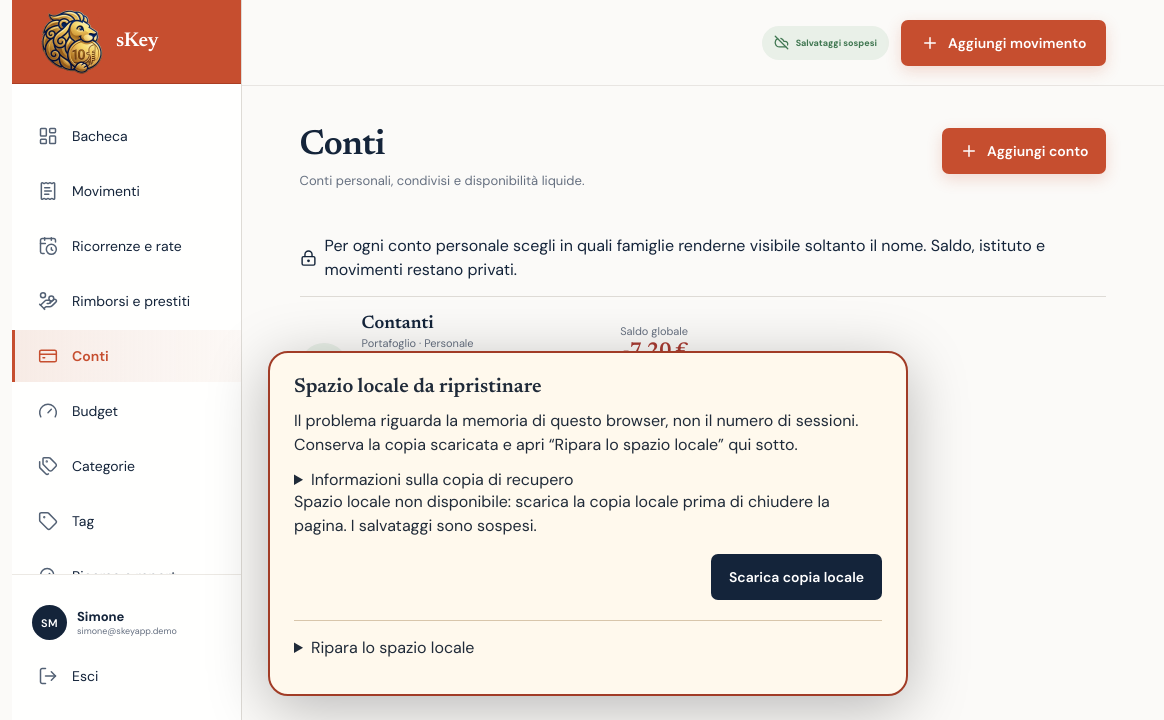
Scenario: cloud save lifecycle on mobile › does not clear any old copies if the durable archive fails
Expected: the text "Spazio locale non disponibile: scarica la copia locale prima di chiudere la pagina. I salvataggi sono sospesi." is shown, [294, 491, 830, 536]
Click the heading "Ripara lo spazio locale" at (393, 648), box [311, 637, 474, 658]
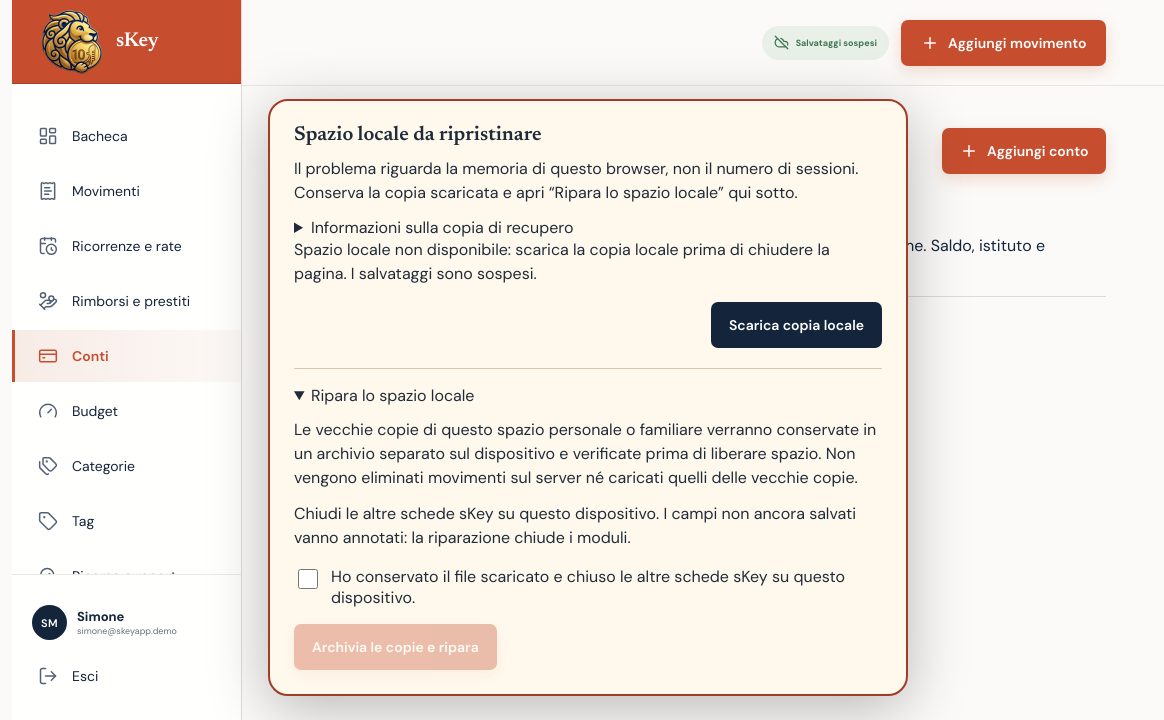
Now the button "Archivia le copie e ripara" is disabled, box [294, 624, 497, 670]
Click the checkbox labelled "Ho conservato il file scaricato" at (308, 579), box [298, 569, 318, 589]
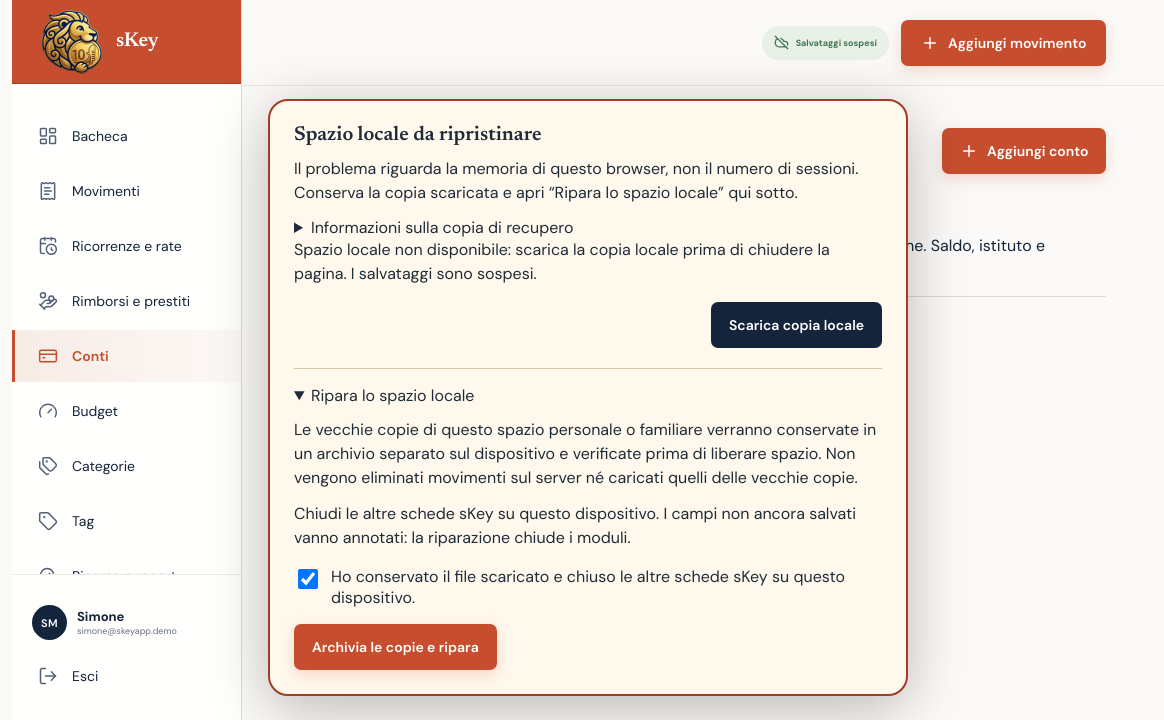
Now the button "Archivia le copie e ripara" is enabled
Click the button "Archivia le copie e ripara" at (395, 647), box [294, 624, 497, 670]
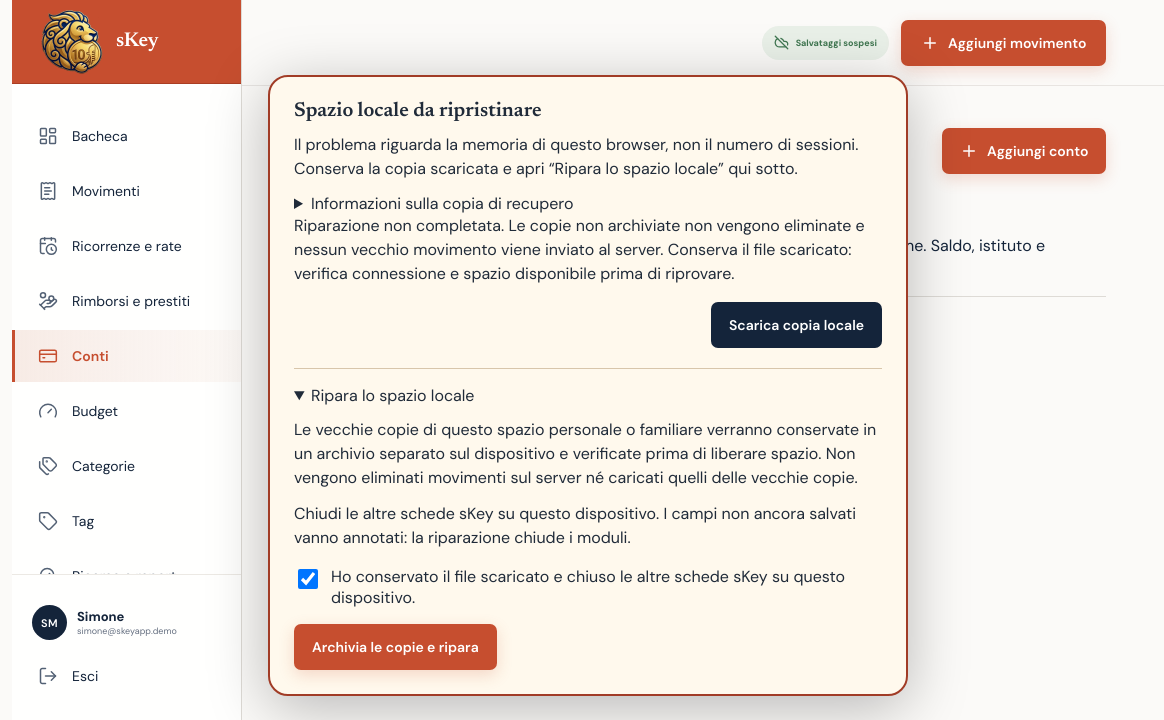
Expected: the heading "Spazio locale da ripristinare" is shown, [294, 101, 542, 121]
Now the text "Riparazione non completata" is shown, box [294, 215, 865, 284]
